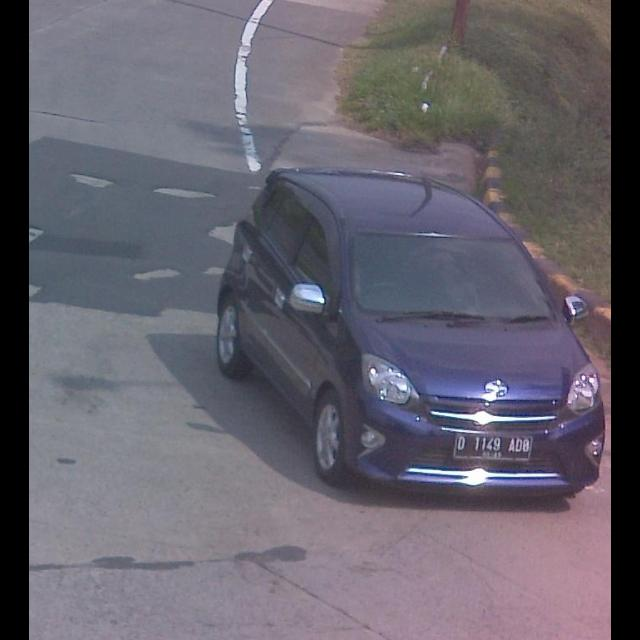plate: (454, 430, 534, 462)
